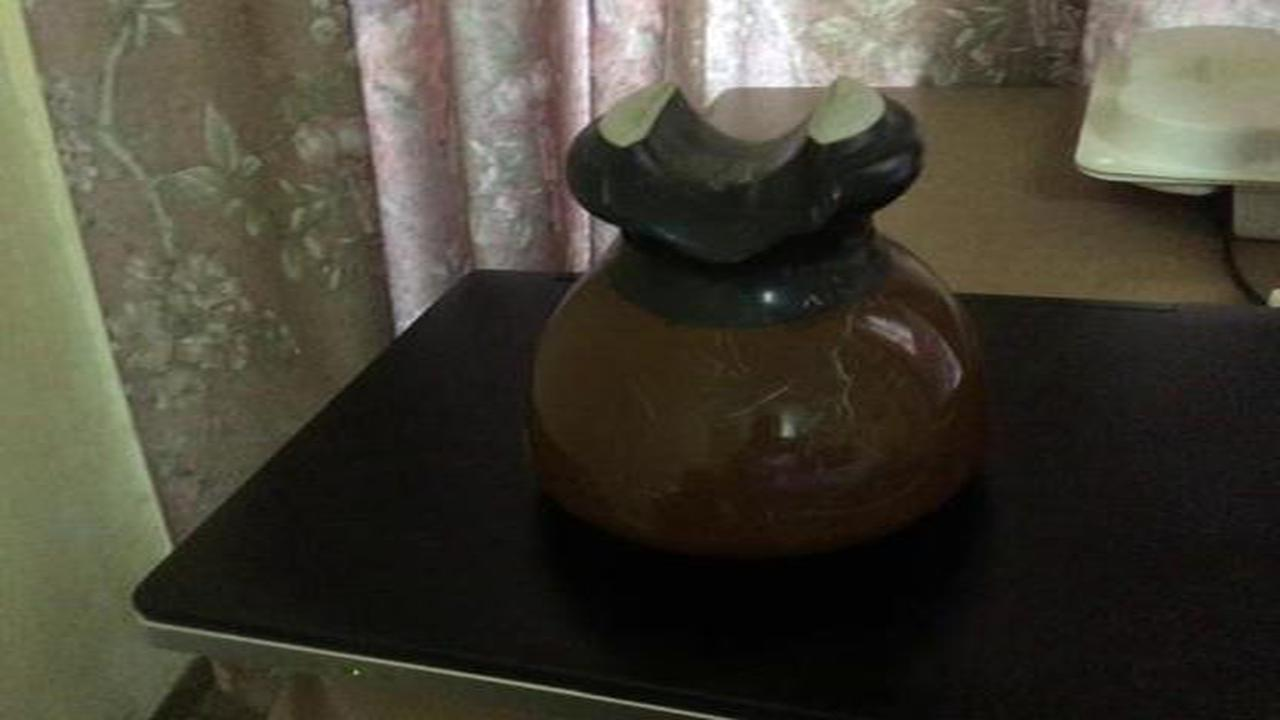insulator_pin: (511, 69, 1013, 579)
